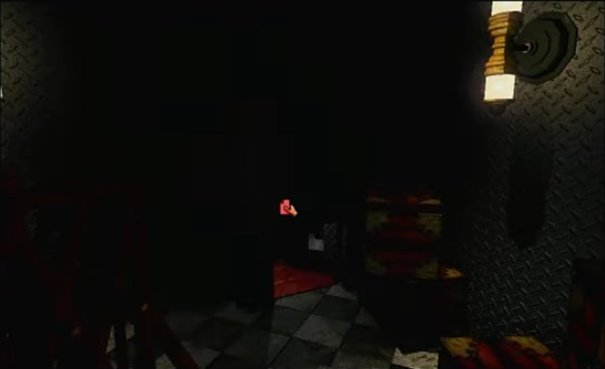Keep: (276, 195, 302, 220)
